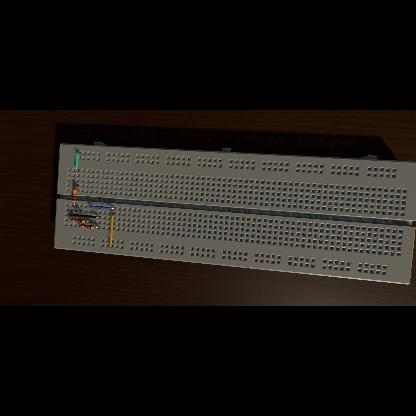breadboard: (54, 141, 416, 284)
resistor: (72, 188, 78, 202), (71, 218, 85, 224), (80, 224, 94, 230)
wire: (110, 213, 114, 247), (70, 214, 100, 218), (89, 206, 115, 210), (76, 152, 80, 170), (74, 210, 82, 212), (74, 202, 77, 206), (94, 226, 100, 228), (76, 186, 78, 188), (70, 219, 70, 221), (80, 225, 80, 226)
